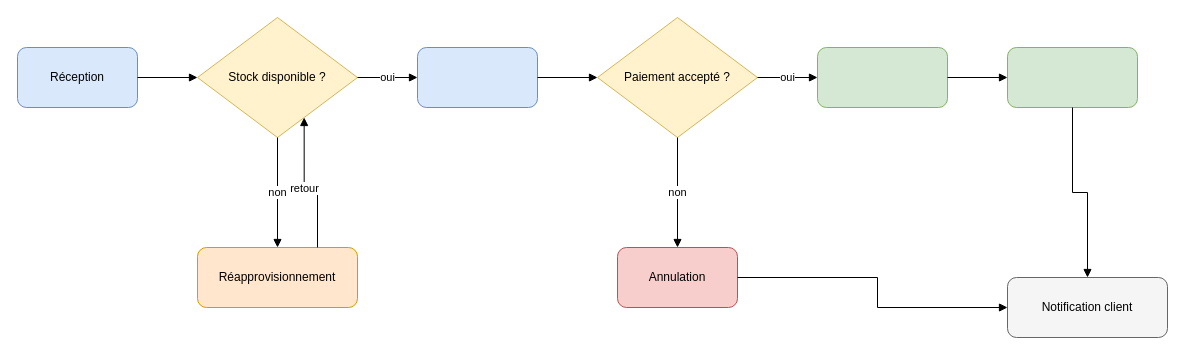
Some shapes in this 1185 by 355 pixel diagram are drawn without their labels. The shapes that lost their labels are listed below. From the top down, each one's centre as x and y in pixels, then its label:
point (477, 77): Paiement
point (882, 77): Préparation
point (1072, 77): Expédition
